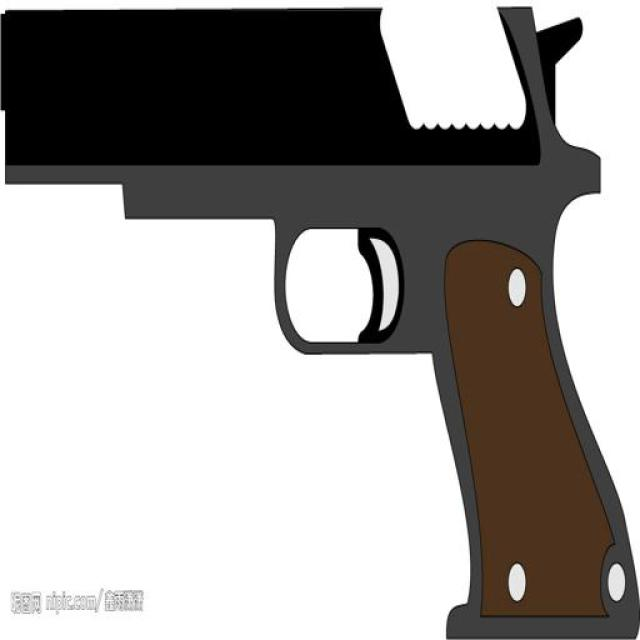pistol: (1, 6, 640, 637)
